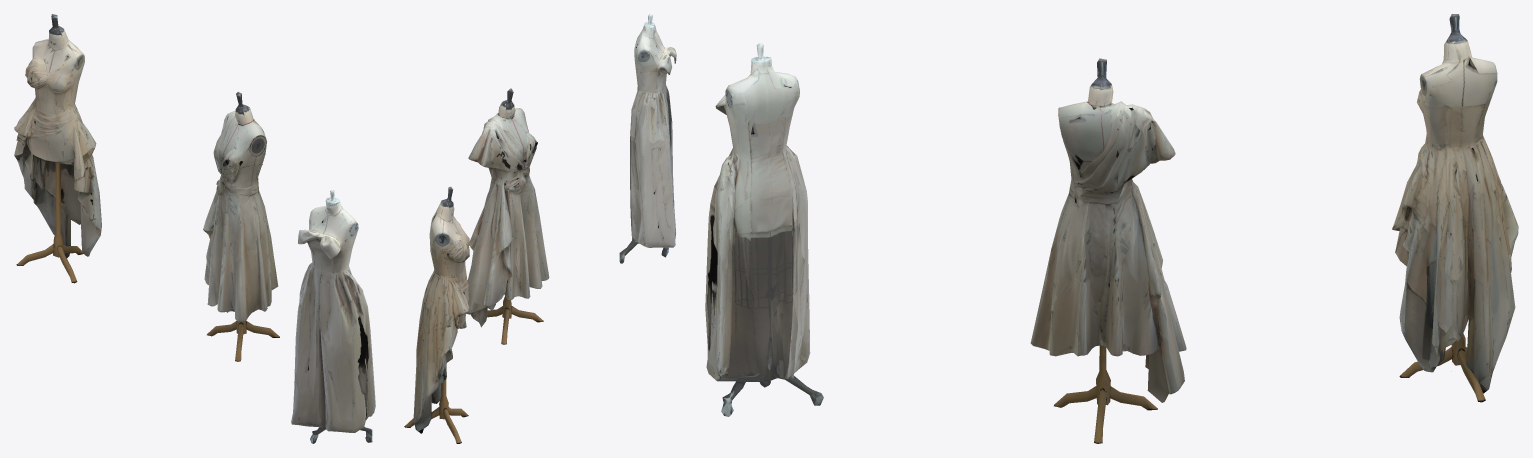
File: Dress_LOD3.glb
3 views of the same model, side by side, from view 1: azimuth 30°, elevation 25°; view 2: azimuth 150°, elevation 25°; view 3: azimuth 270°, elevation 25° (orthographic). The views are drawn at different scales.
Parts seen in each view (by area): view 1: Dress_LOD3; view 2: Dress_LOD3; view 3: Dress_LOD3.
Part boxes in pixels (left/top/right/bottom): Dress_LOD3: left=14, top=14, right=375, bottom=443; Dress_LOD3: left=404, top=14, right=676, bottom=443; Dress_LOD3: left=705, top=14, right=1518, bottom=443.
Size of the model in its own units: 1.05 by 2.01 by 4.05.
1 material, 1 textured.
